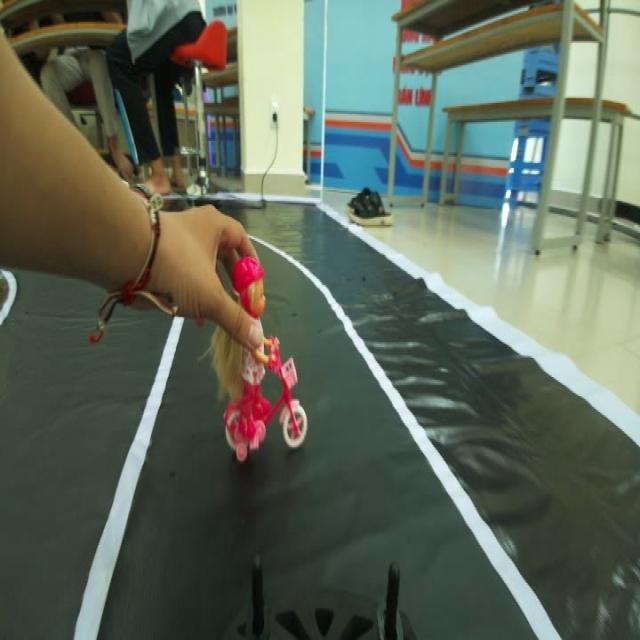pedestrian: (219, 249, 305, 467)
